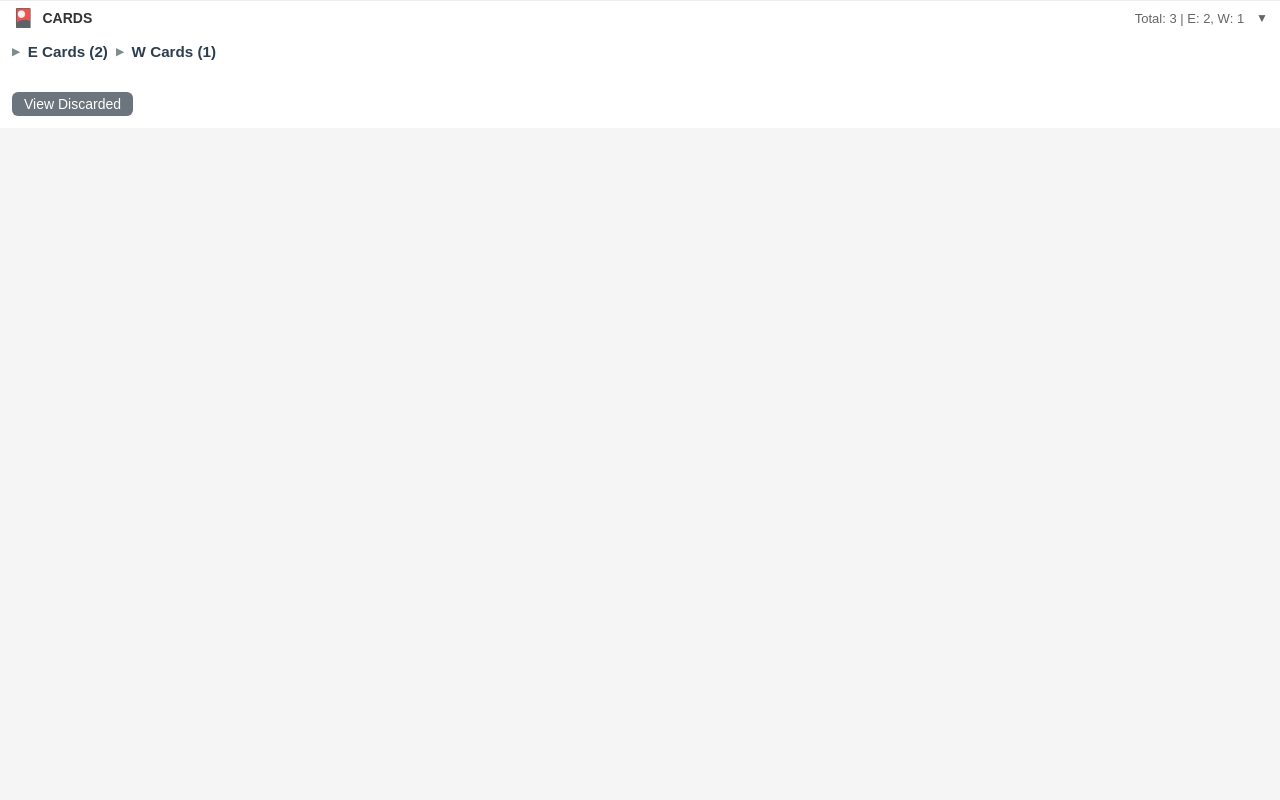
Test case: CardsSection › View Discarded Button › should open modal when View Discarded clicked
Click the button "View Discarded" at coordinates (72, 104), box [12,92,133,116]
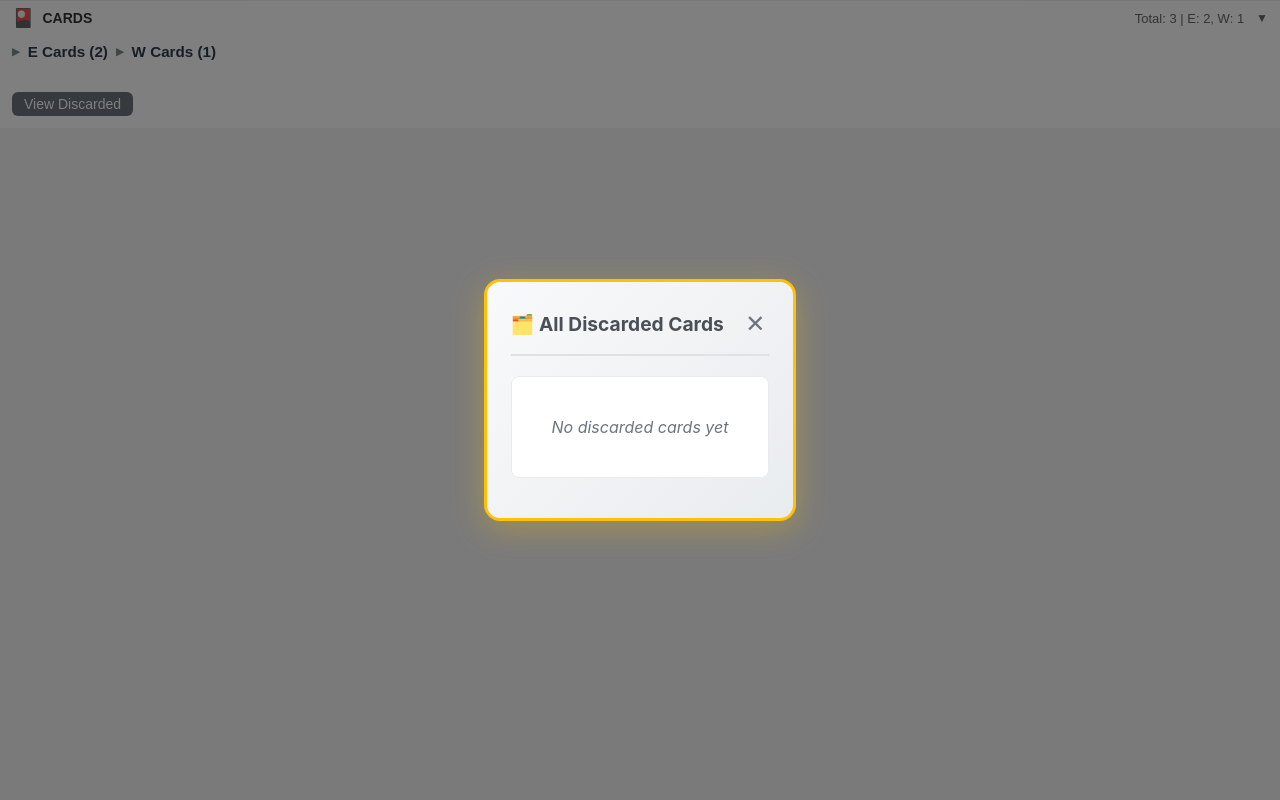
Expected: the text "🗂️ All Discarded Cards" is shown, [510,312,724,336]
